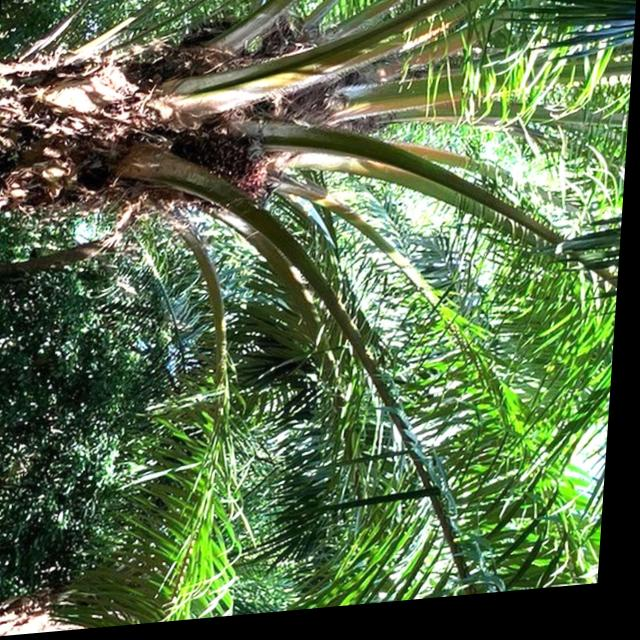ripe: (167, 135, 277, 219)
